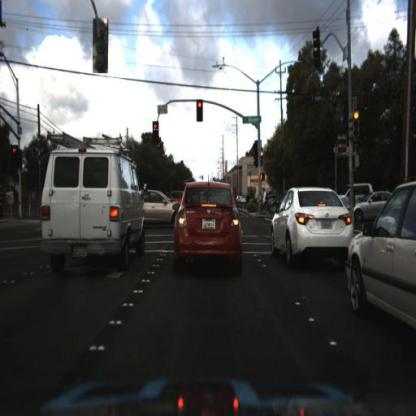biker: (257, 187, 275, 218)
car: (29, 129, 151, 280), (349, 175, 416, 330), (167, 176, 250, 279), (272, 187, 361, 267), (145, 187, 174, 228), (351, 189, 382, 221), (339, 182, 371, 205)
trafficLight-Red: (351, 107, 360, 125), (12, 141, 18, 164), (198, 97, 204, 119), (259, 146, 267, 161)
trafficLight-RedLeft: (152, 121, 158, 137)
